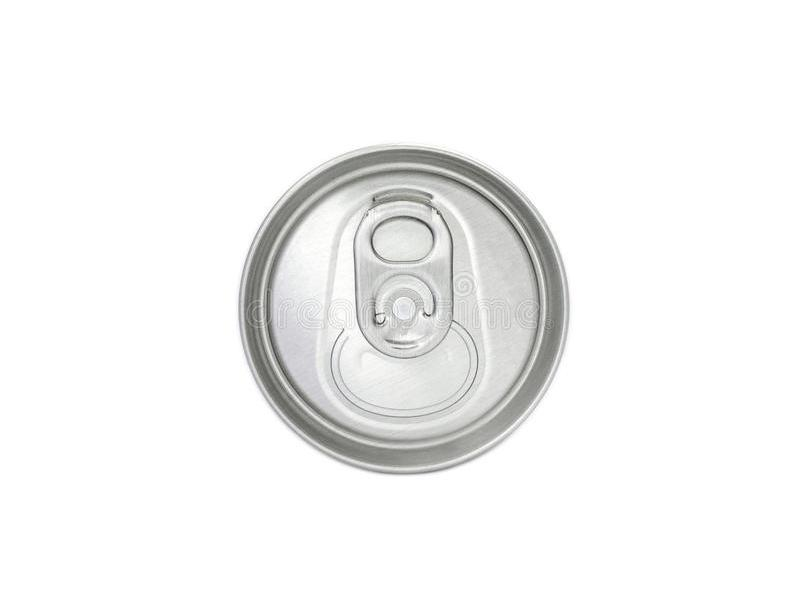can: (229, 138, 582, 490)
